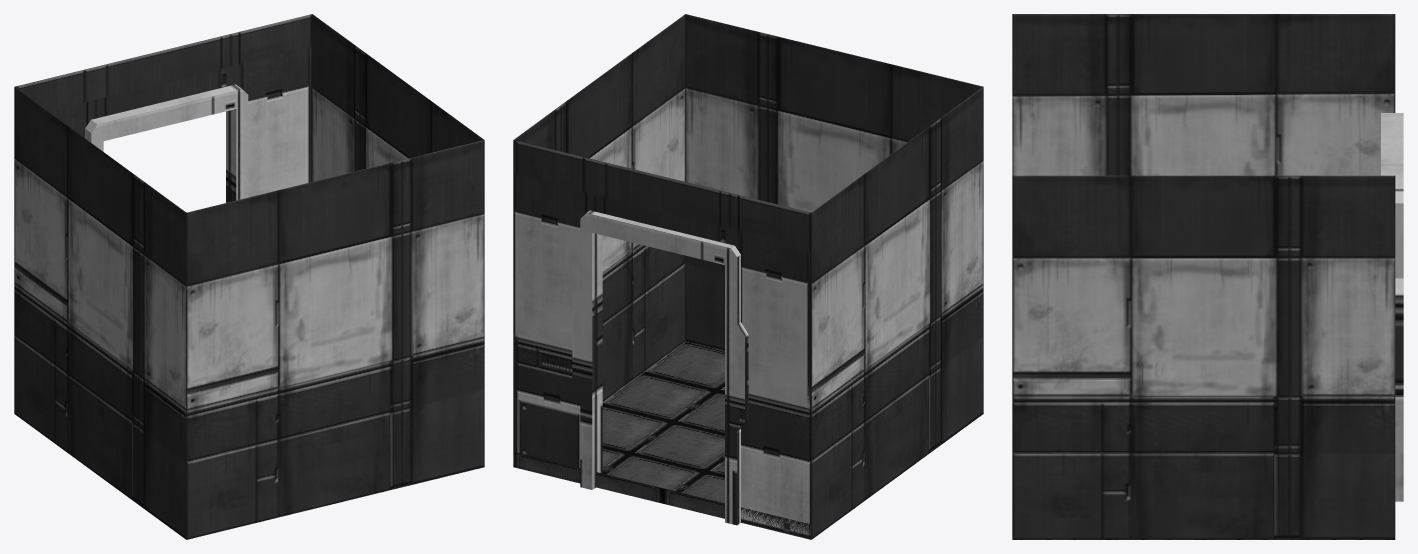
File: ElevatorBottom.fbx
3 views of the same model, side by side, from view 1: azimuth 30°, elevation 25°; view 2: azimuth 150°, elevation 25°; view 3: azimuth 270°, elevation 25° (orthographic). The views are drawn at different scales.
Parts seen in each view (by area): view 1: ElevatorBottom; view 2: ElevatorBottom; view 3: ElevatorBottom.
Part boxes in pixels (<box>): ElevatorBottom: <box>14,14,484,539</box>; ElevatorBottom: <box>513,14,983,539</box>; ElevatorBottom: <box>1012,14,1403,539</box>.
Size of the model in its own units: 5 by 5.25 by 5.11.
